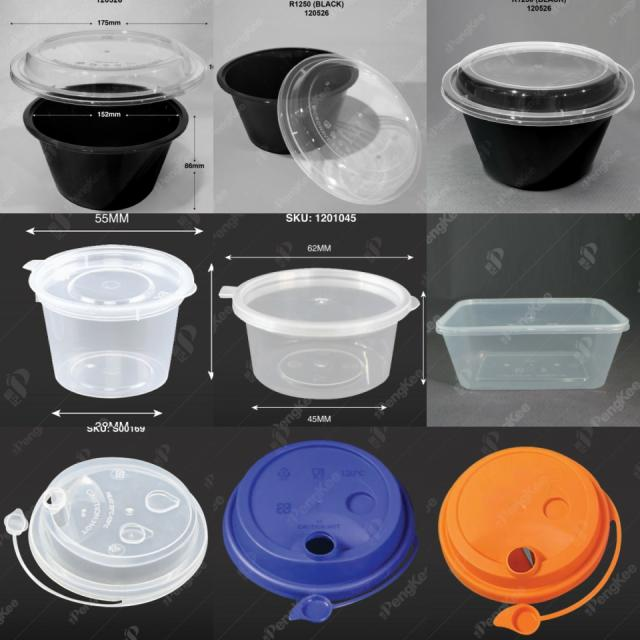Single-Use-Plastic: (222, 439, 420, 623), (436, 446, 625, 635), (4, 459, 208, 607), (441, 41, 634, 191), (24, 245, 196, 399), (220, 268, 419, 398), (278, 54, 421, 204), (24, 82, 189, 210), (436, 299, 630, 389), (218, 48, 359, 163), (10, 30, 206, 106)
